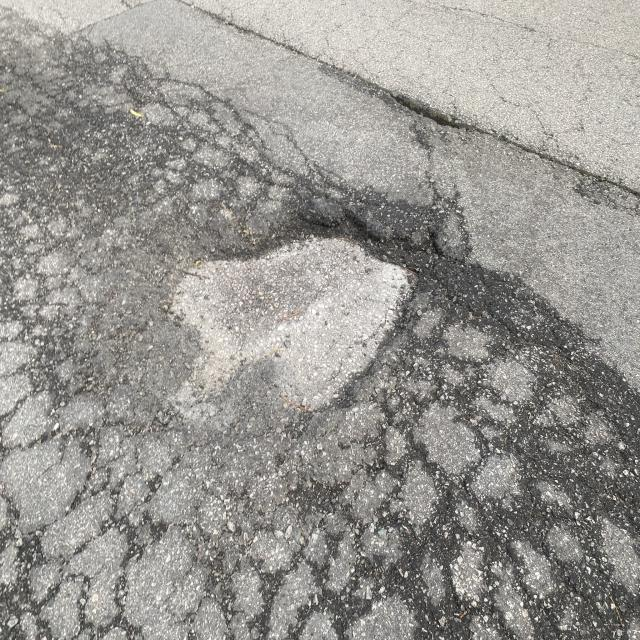pothole: (226, 158, 458, 328), (355, 82, 505, 169)
